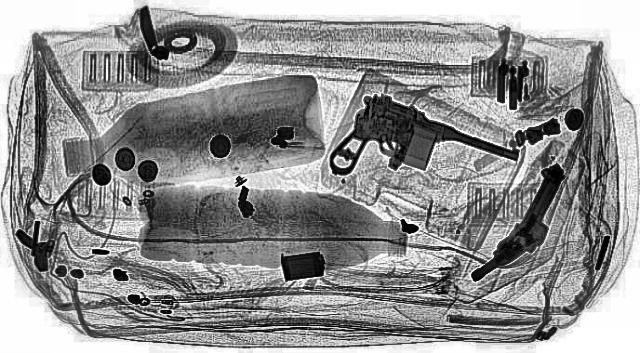Gun: (278, 90, 530, 212), (468, 166, 588, 286)
